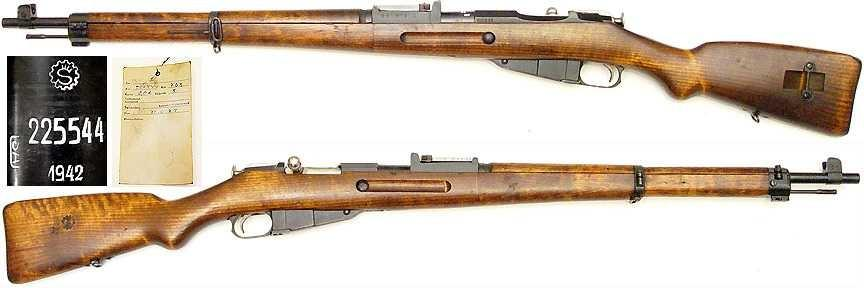heavyweapon: (0, 0, 859, 144), (0, 152, 863, 288)
